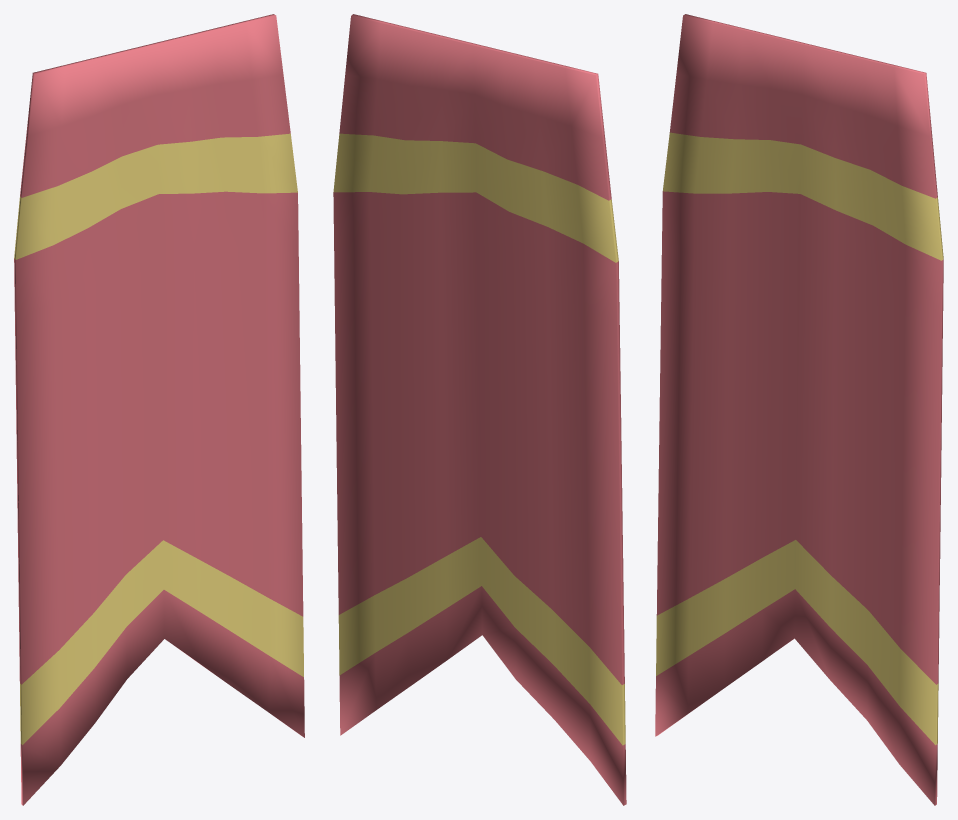
File: banner_red_b.glb
3 renders of one model, left to right at view 1: azimuth 30°, elevation 25°; view 2: azimuth 150°, elevation 25°; view 3: azimuth 330°, elevation 25°, orthographic.
Parts seen in each view (by area): view 1: banner_red_b; view 2: banner_red_b; view 3: banner_red_b.
Part boxes in pixels (bbox=[...]): banner_red_b: bbox=[14, 14, 304, 805]; banner_red_b: bbox=[333, 14, 626, 805]; banner_red_b: bbox=[655, 14, 943, 805].
Size of the model in its own units: 1.1 by 2.7 by 0.0903.
